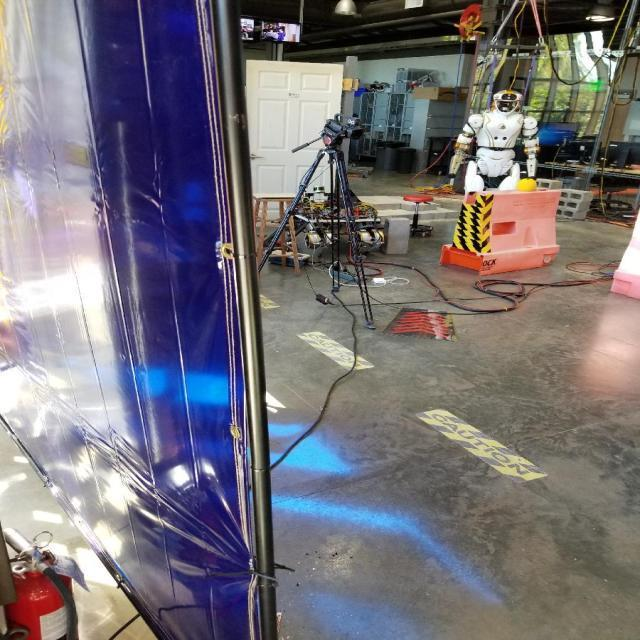door: (240, 57, 342, 229), (250, 152, 264, 162)
